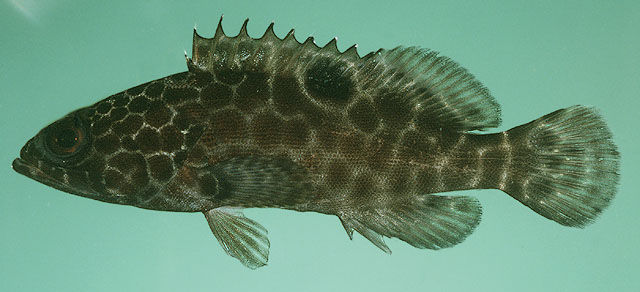fish: (11, 12, 623, 271)
